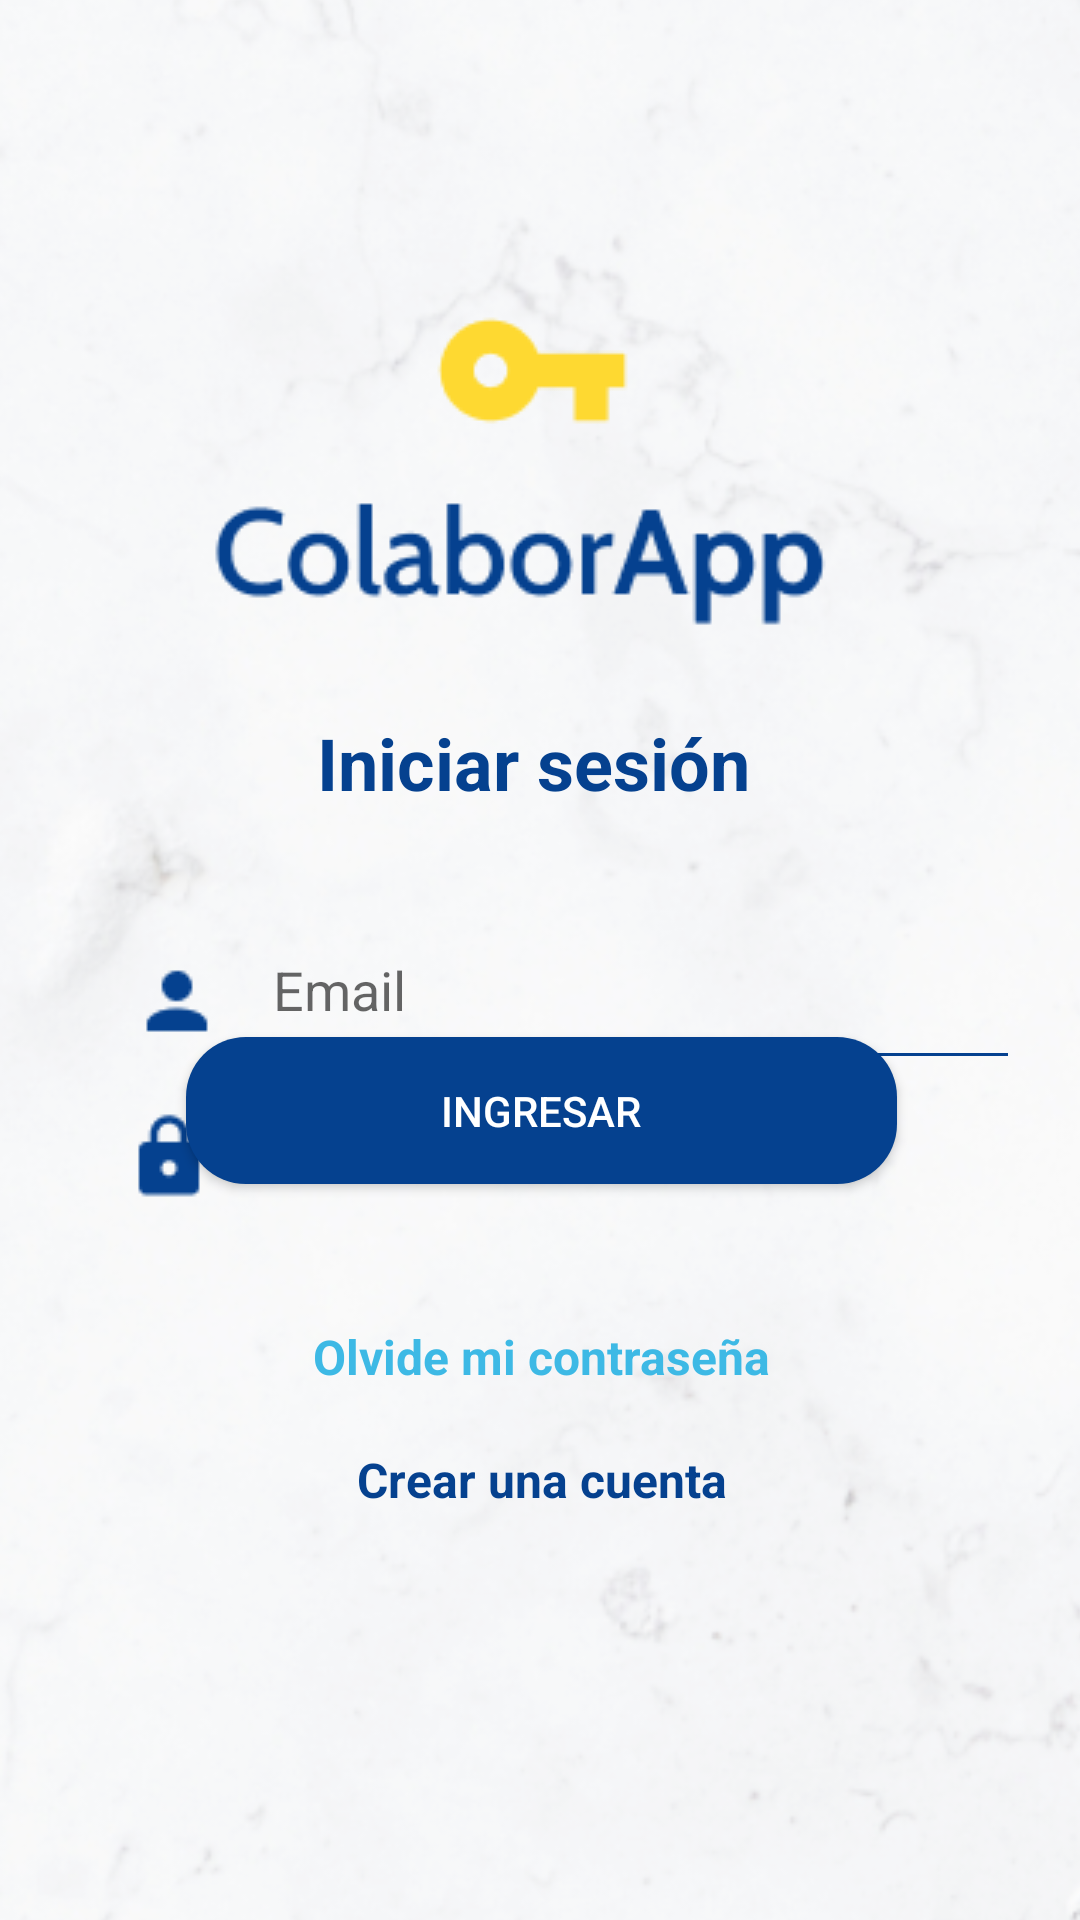

Screen size 1080x1920. Icon name, then its box in pixels as (x1, y1, x2, y2):
password: (138, 1112, 214, 1197)
user: (146, 970, 208, 1032)
